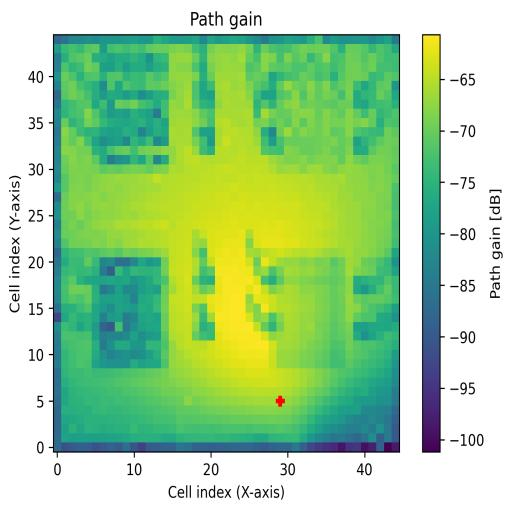Concrete: (270, 52, 370, 164)
Glass: (91, 52, 170, 166)
Metal: (277, 258, 346, 369)
Wood: (91, 259, 170, 367)
